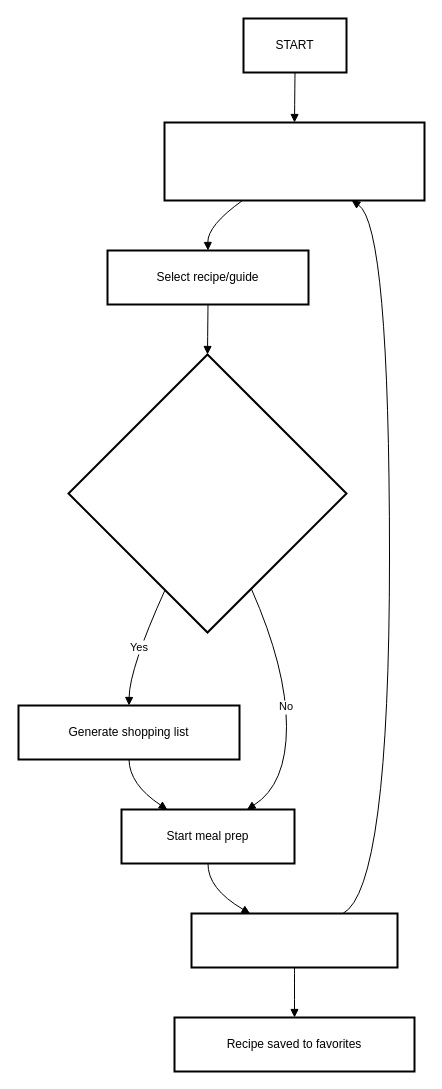
This 442x1089 diagram has some shape labels left out. Each missing label, with the centre of its shape:
Add ingredients to shopping list?: pixel 207 493
Browse recipes or meal prep guides: pixel 294 161
Log completed meal: pixel 294 940
